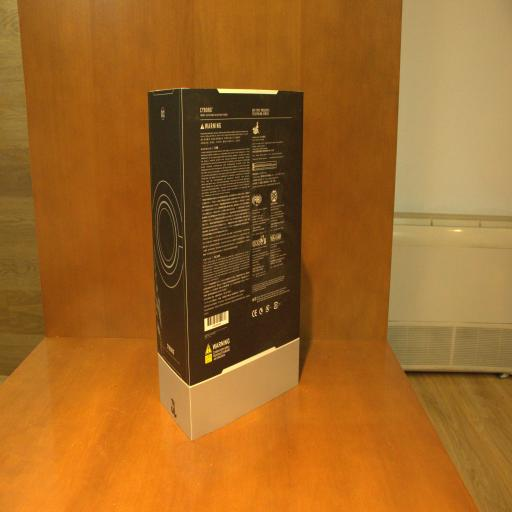Cyborg: (148, 86, 304, 438)
